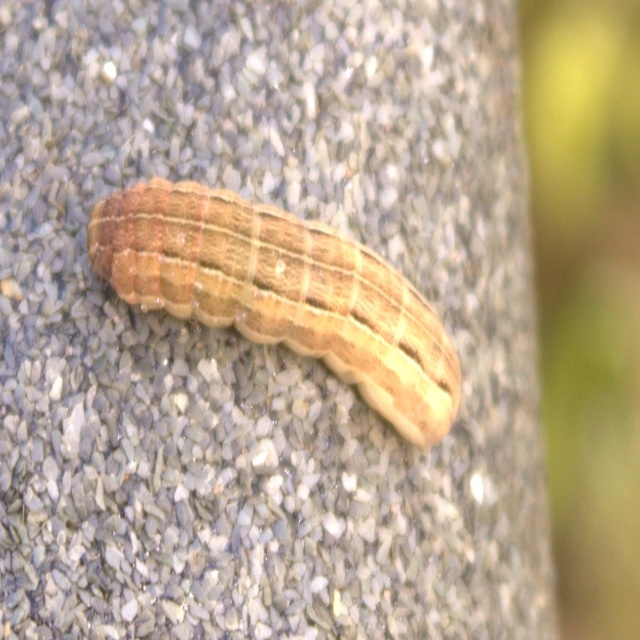Caterpillar: (82, 174, 460, 453)
